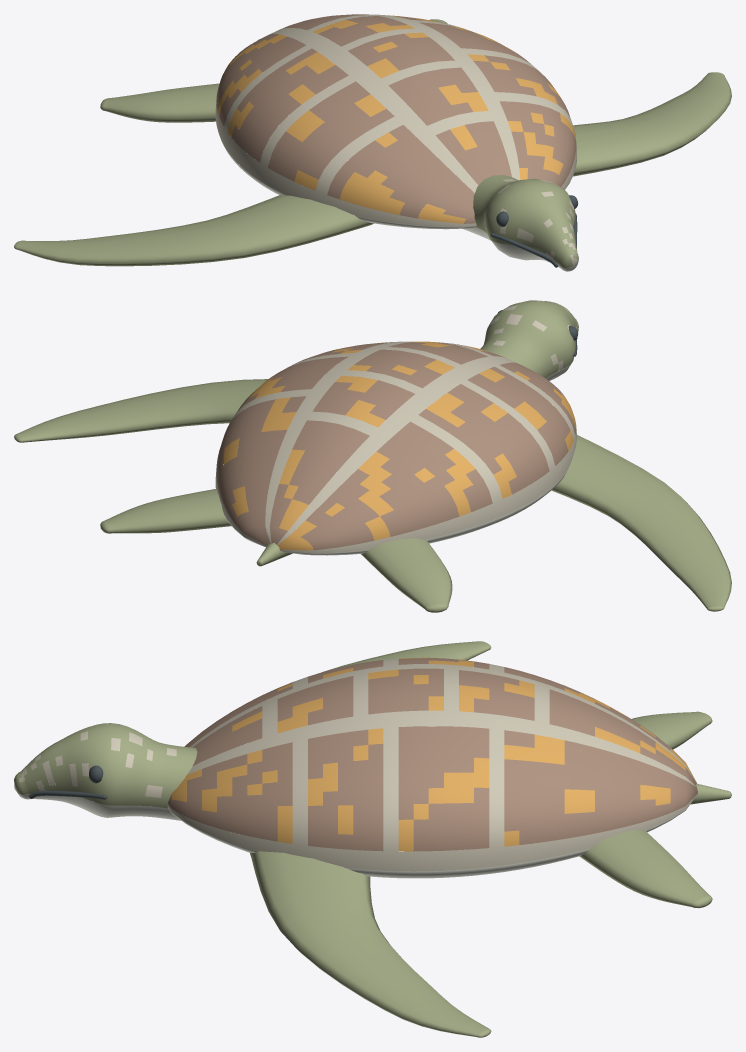
The model's file is snow_leopard.glb.
The picture shows the model from 3 angles, top to bottom: view 1: azimuth 30°, elevation 25°; view 2: azimuth 150°, elevation 25°; view 3: azimuth 270°, elevation 25°; orthographic projection. The views are drawn at different scales.
Parts seen in each view (by area): view 1: hawksbill-turtle; view 2: hawksbill-turtle; view 3: hawksbill-turtle.
Boxes of the visible parts, bbox=[...] form: hawksbill-turtle: bbox=[14, 14, 731, 271]; hawksbill-turtle: bbox=[14, 300, 731, 612]; hawksbill-turtle: bbox=[14, 641, 731, 1037].
Size of the model in its own units: 1.17 by 0.2215 by 0.9001.
